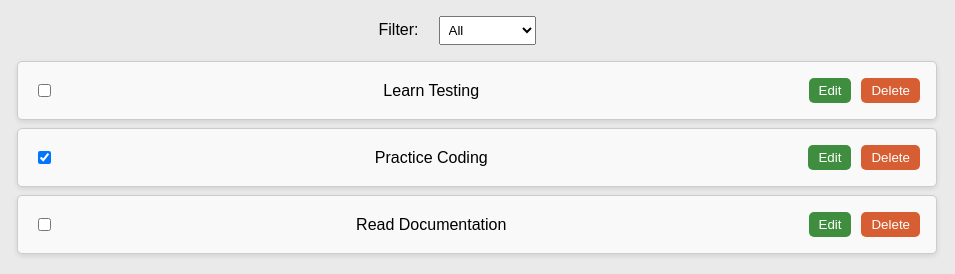
it: renders filter and filters todos
The image size is (955, 274).
// Select "Active" filter
Select "Active" in the dropdown at (487, 30), box [438,16,536,45]
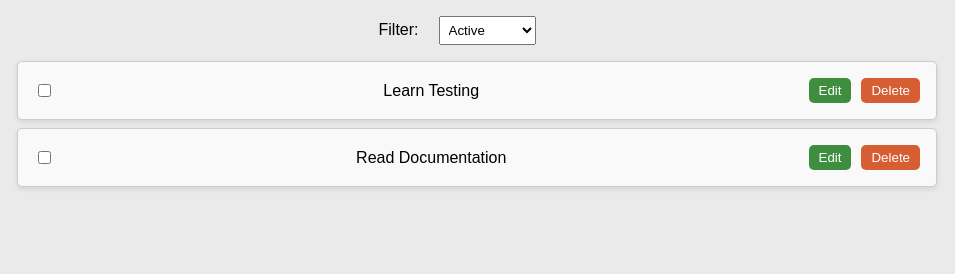
Expected: the text "Learn Testing" is shown, [383,82,479,100]
Result: the number of list items is 2 at [17,61,937,120]; [17,128,937,187]
Result: the text "Practice Coding" is gone
// Select "Completed" filter
Select "Completed" in the dropdown at (487, 30), box [438,16,536,45]
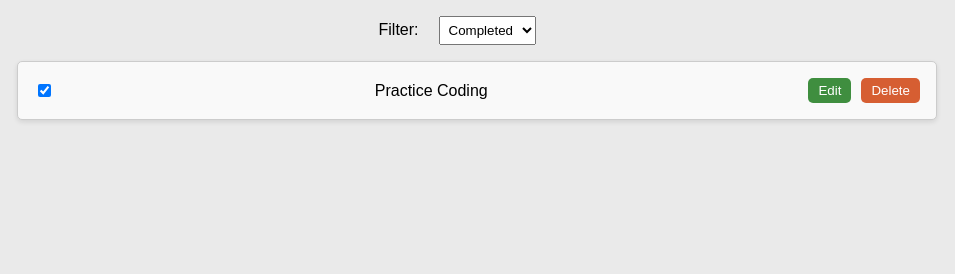
Result: the number of list items is 1 at [17,61,937,120]
Result: the text "Learn Testing" is gone
Result: the text "Read Documentation" is gone
// Select "All" filter
Select "All" in the dropdown at (487, 30), box [438,16,536,45]
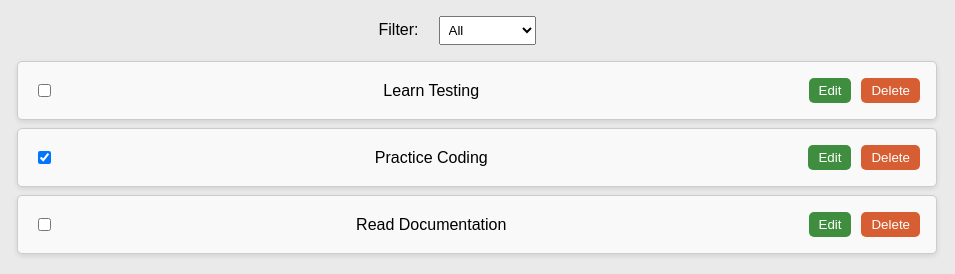
Result: the number of list items is 3 at [17,61,937,120]; [17,128,937,187]; [17,195,937,254]
